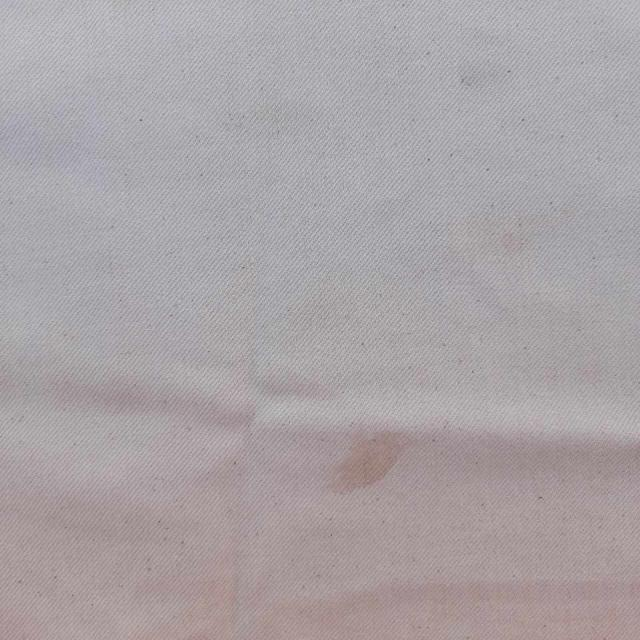taaaches: (313, 420, 429, 523)
